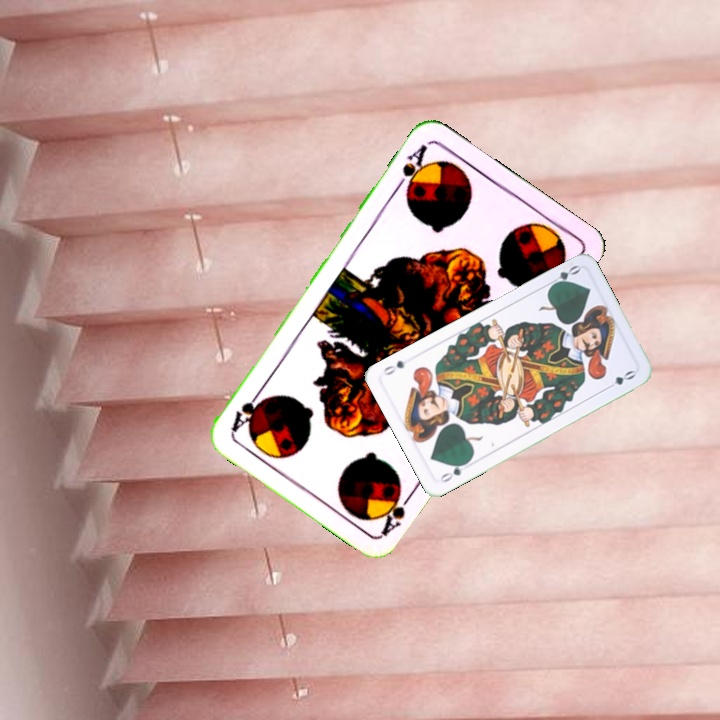GO: (544, 261, 582, 290), (435, 457, 472, 485)
SA: (391, 140, 431, 198), (376, 483, 417, 538)
